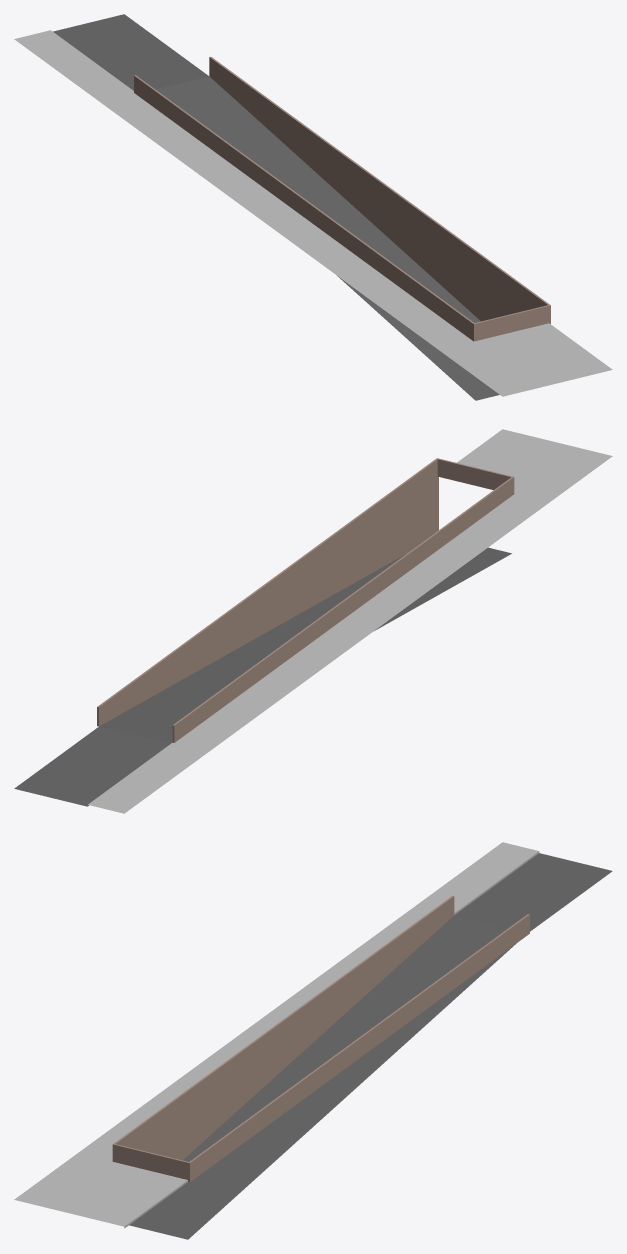
Rendered from garage.glb.
3 views of the same model, one above another, from view 1: azimuth 30°, elevation 25°; view 2: azimuth 150°, elevation 25°; view 3: azimuth 330°, elevation 25° (orthographic).
Parts seen in each view (by area): view 1: Plane; view 2: Plane; view 3: Plane.
Part boxes in pixels (<box>): Plane: <box>14,14,612,400</box>; Plane: <box>14,429,612,813</box>; Plane: <box>14,842,612,1239</box>.
Size of what is drawn, in the model's own units: 6.1 by 4 by 46.
